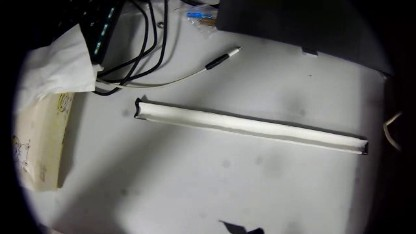gangzhu: (155, 18, 163, 31)
